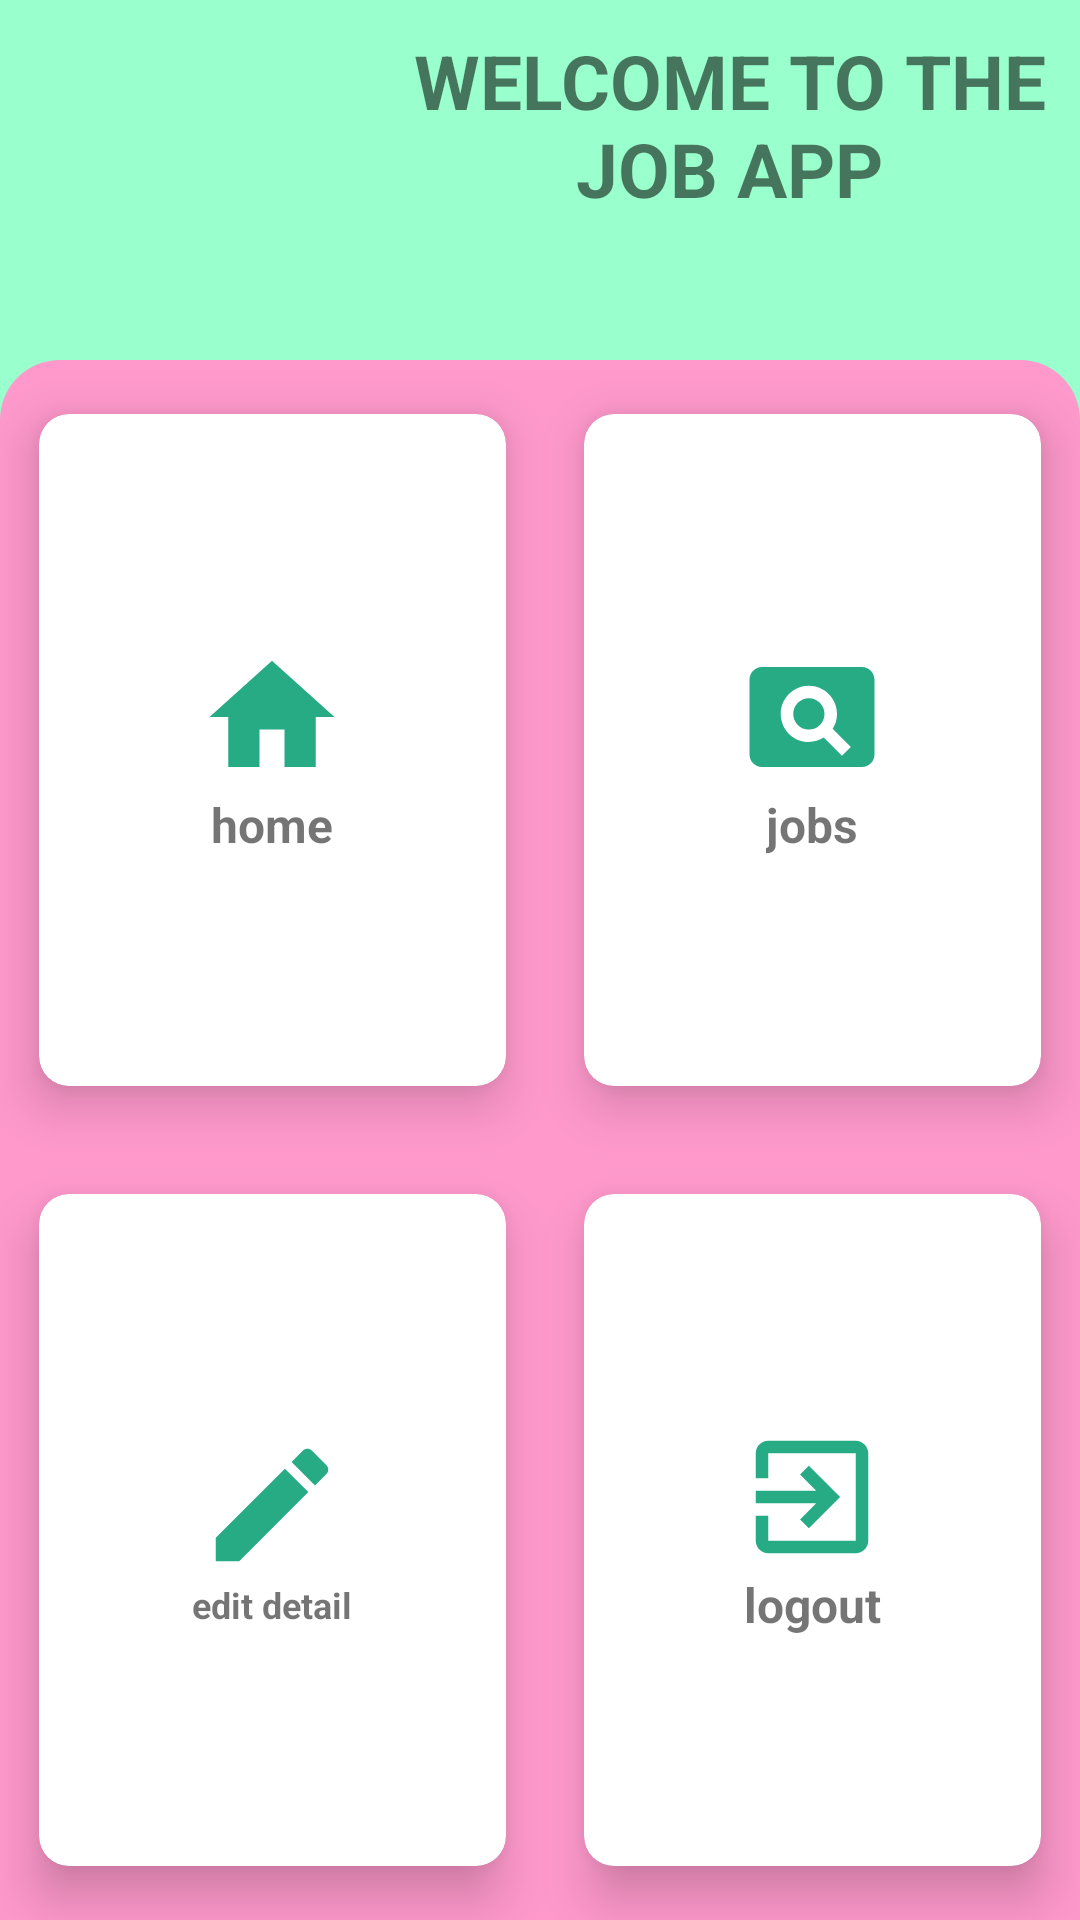

Named icons in this screenshot (1080px x 1920px) and their bounding boxes, (x1, y1, x2, y2):
pageview: (749, 667, 875, 767)
